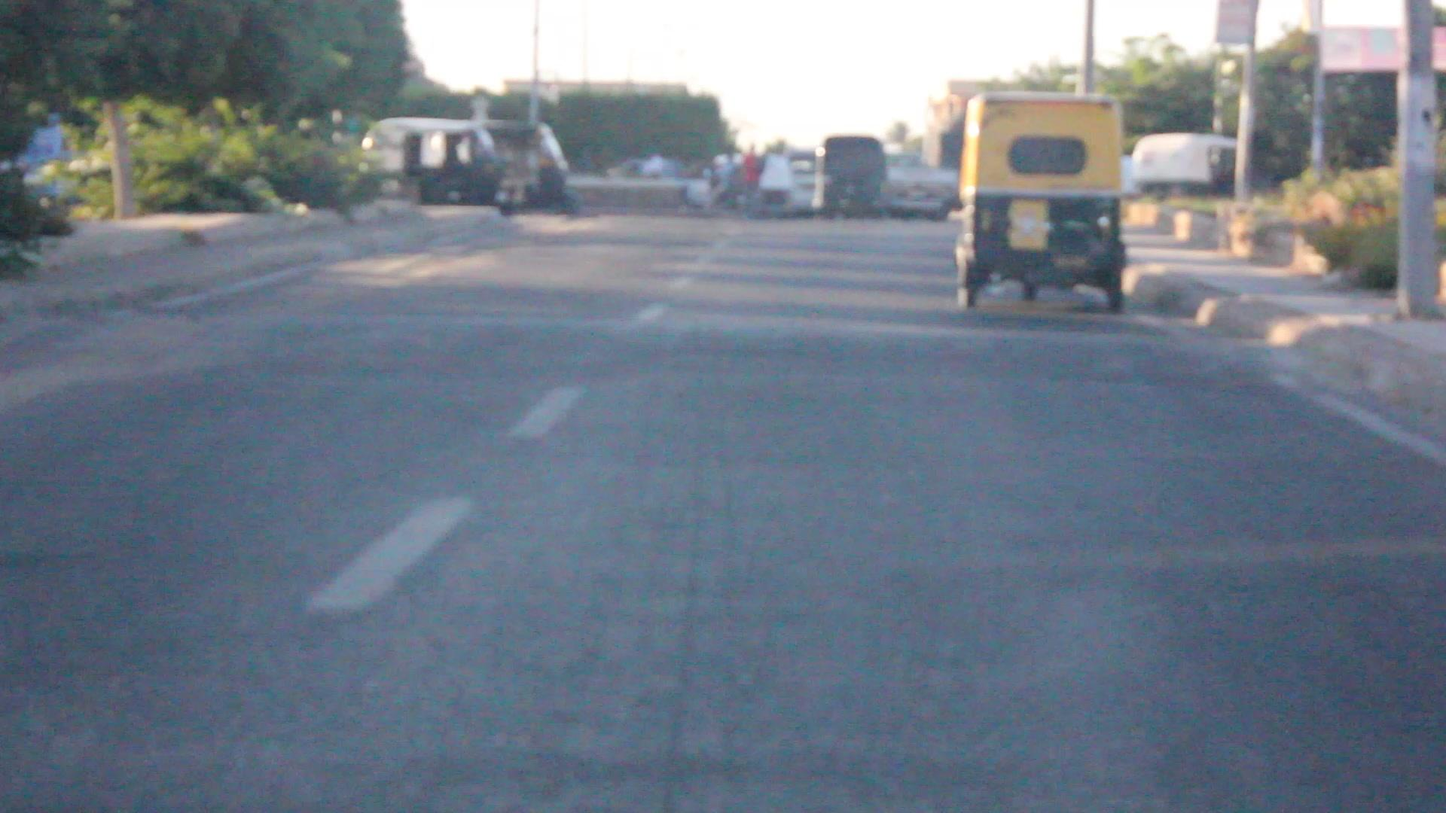Bump: (67, 308, 1348, 387)
